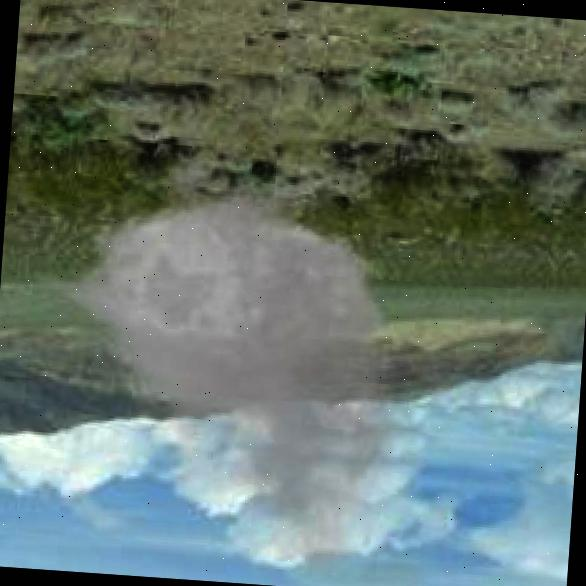smoke: (0, 131, 441, 586)
